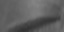LeftEyeFatigue: (2, 9, 62, 32)
